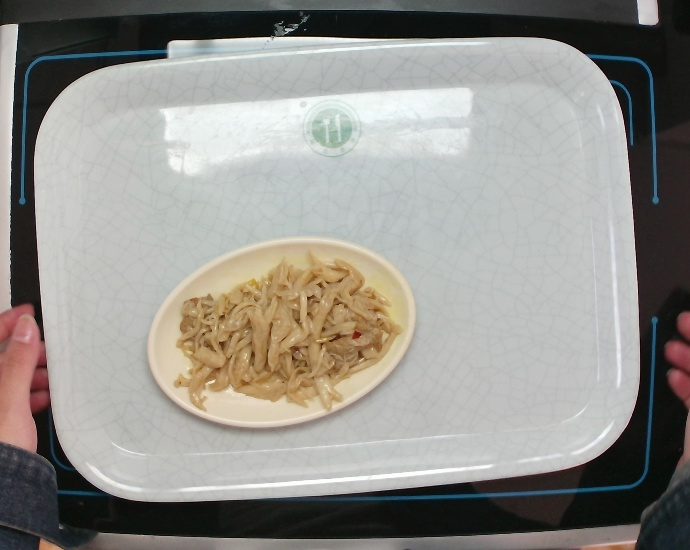JYsf-Tuo_Yuan_Wan: (143, 230, 418, 437)
